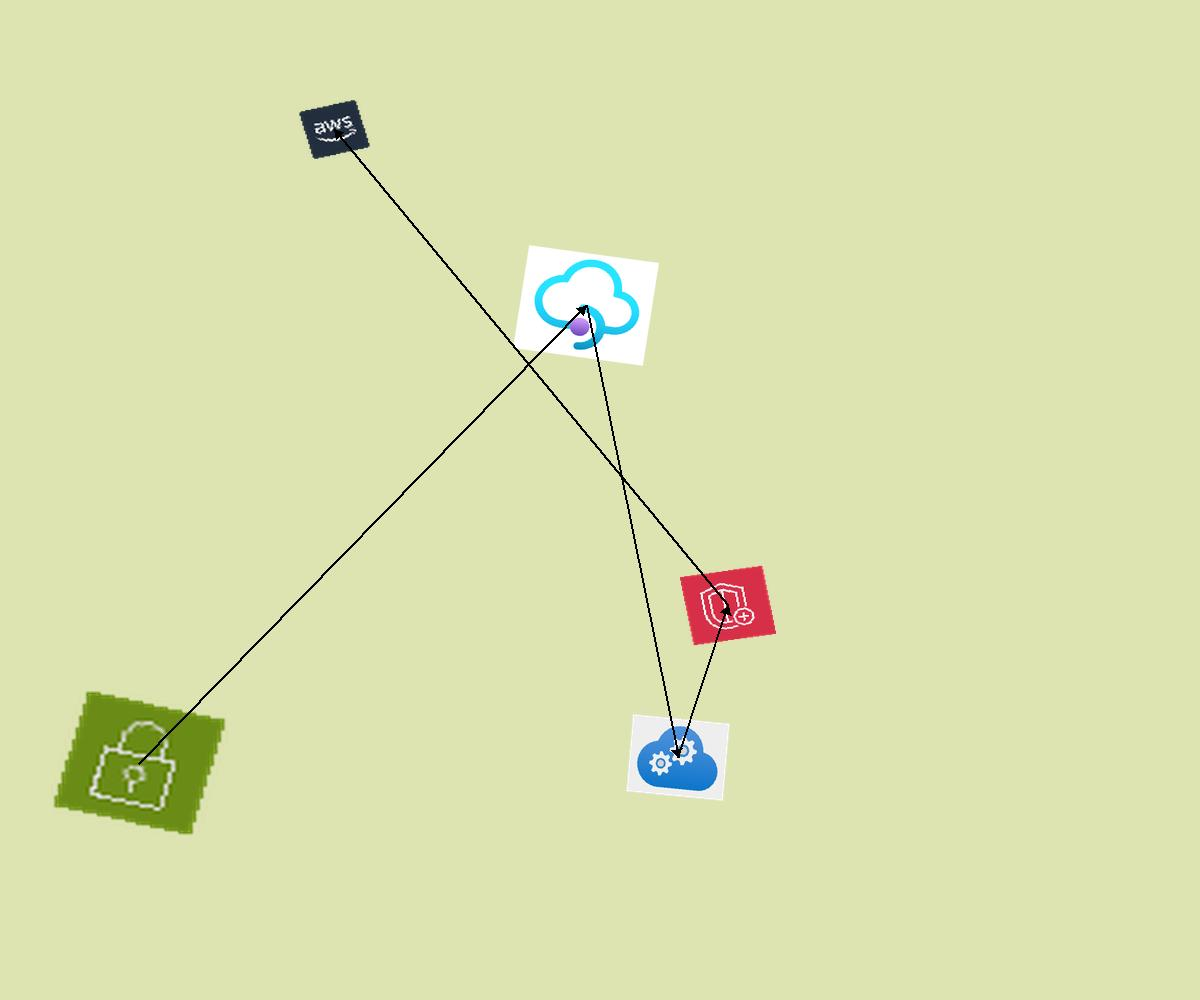AWS-Cloud-logo: (298, 99, 371, 160)
AWS-Public-subnet: (51, 689, 228, 837)
AWS-Shield: (679, 565, 777, 646)
Azure_api_gateway: (513, 245, 659, 366)
Azure_cloud_services: (626, 714, 730, 801)
